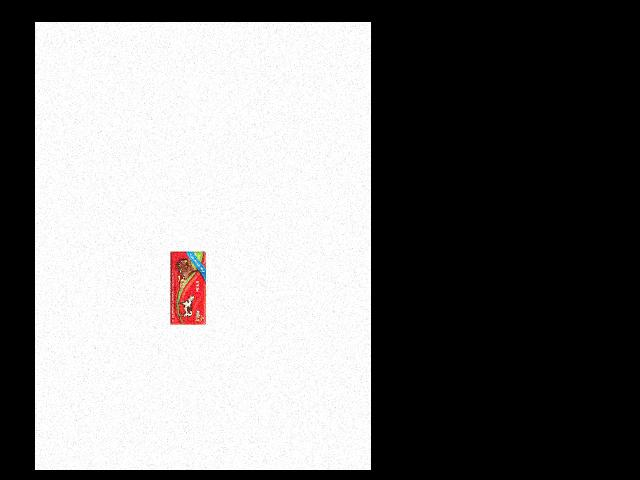chocolate: (171, 252, 206, 328)
